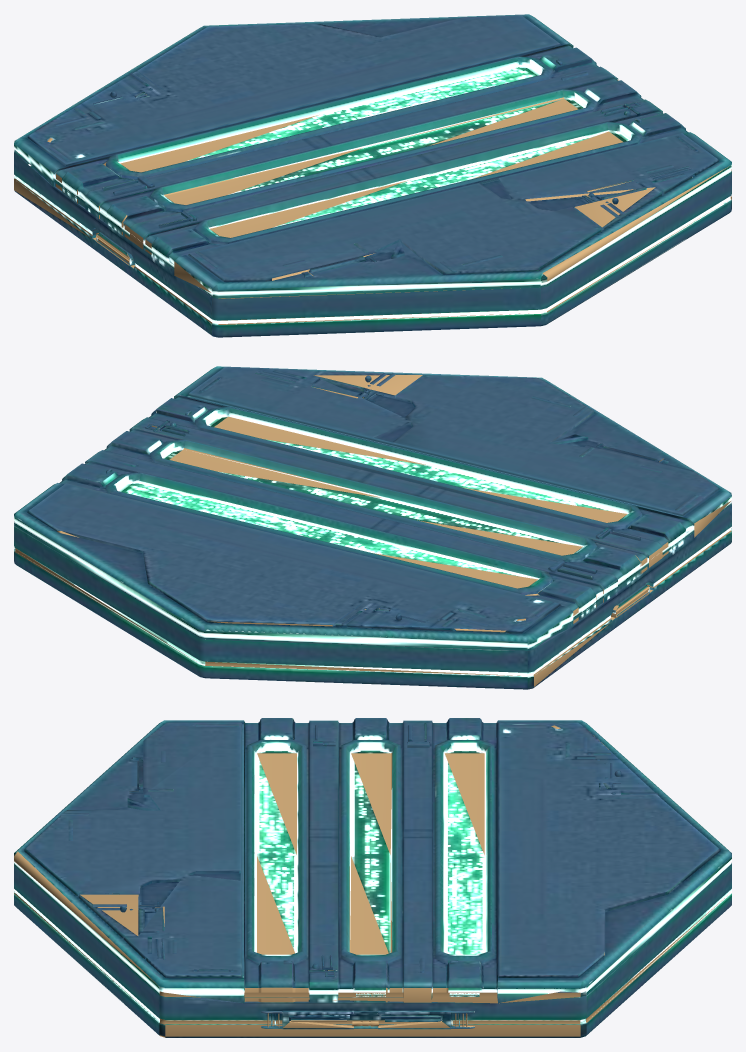
The model's file is plaine_v1.glb.
3 views of the same model, one above another, from view 1: azimuth 30°, elevation 25°; view 2: azimuth 150°, elevation 25°; view 3: azimuth 270°, elevation 25° (orthographic). The views are drawn at different scales.
Visible parts, largest first — view 1: plaine_v1; view 2: plaine_v1; view 3: plaine_v1.
Part boxes in pixels (bbox=[...]): plaine_v1: bbox=[14, 14, 731, 337]; plaine_v1: bbox=[14, 366, 731, 689]; plaine_v1: bbox=[14, 718, 731, 1037].
Bounding box in the file's own units: 0.8833 × 0.0991 × 0.9995.
2 materials, 1 textured.
